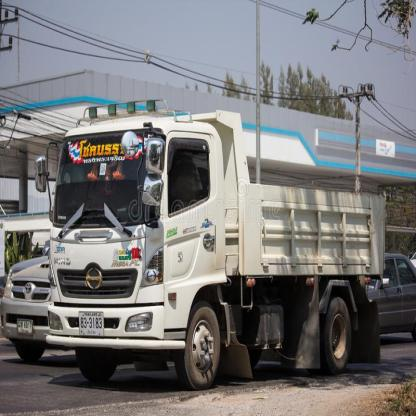dump_truck: (40, 81, 396, 396)
